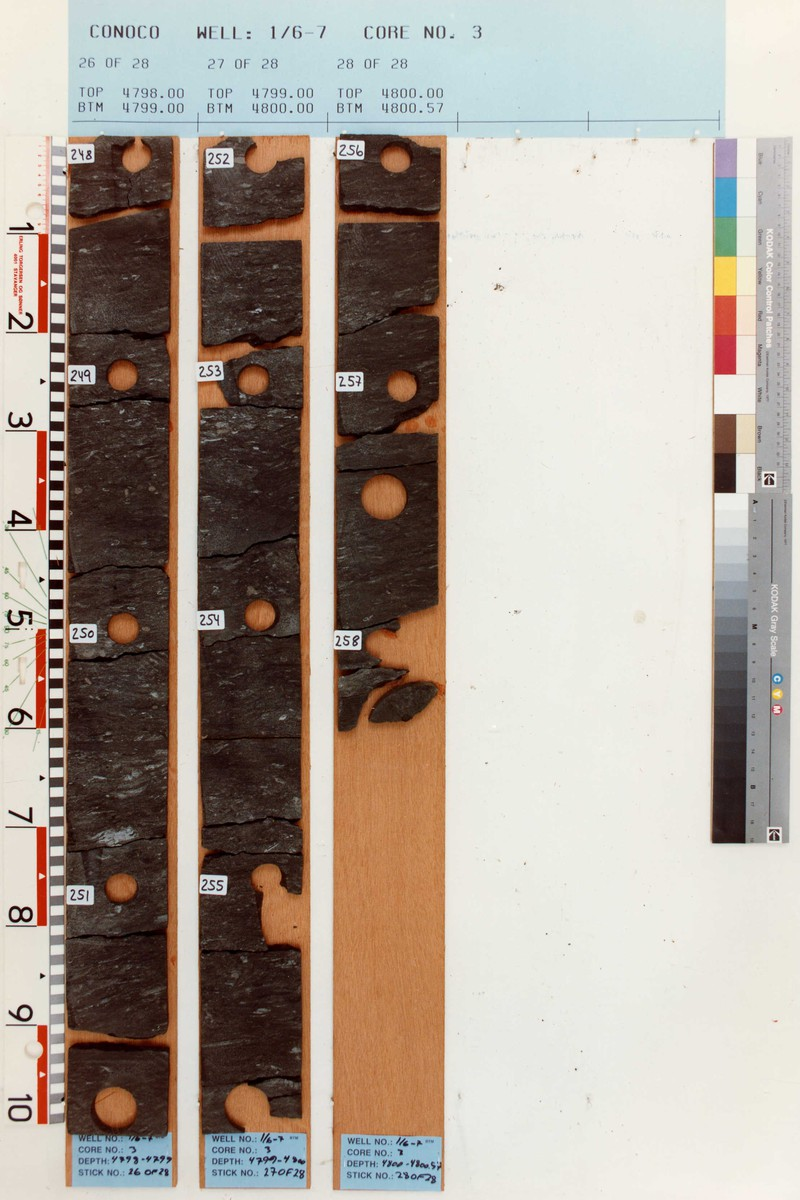core: (66, 134, 178, 1137), (198, 137, 307, 1132), (333, 134, 444, 737)
